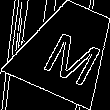M_NE: (32, 17, 102, 82)
